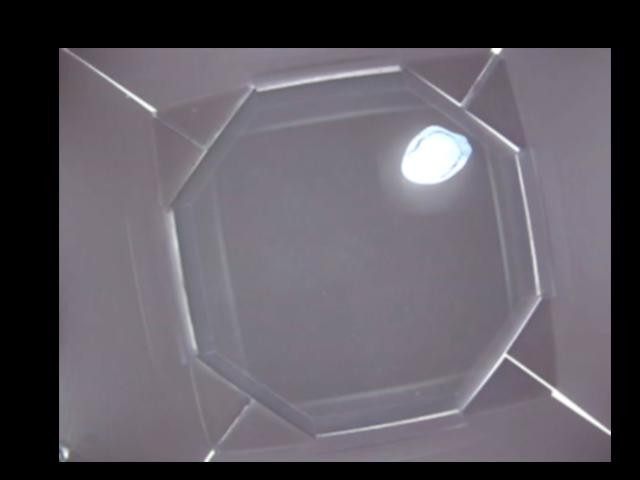Pebble: (398, 123, 472, 184)
